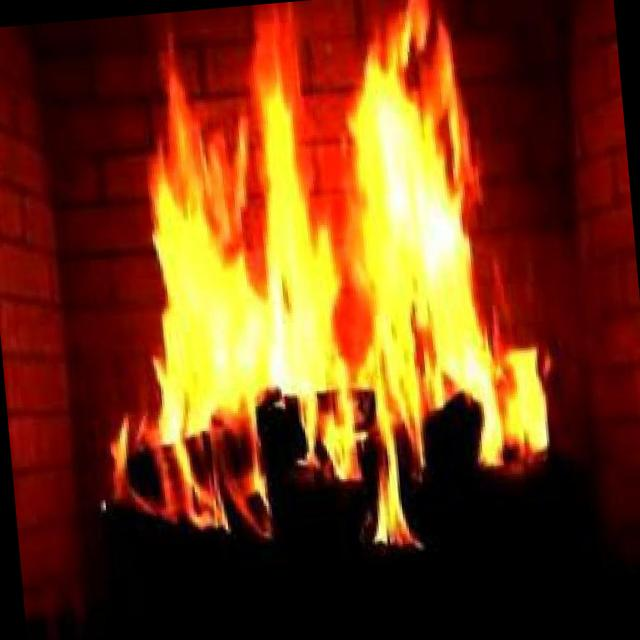Fire: (57, 0, 573, 586)
